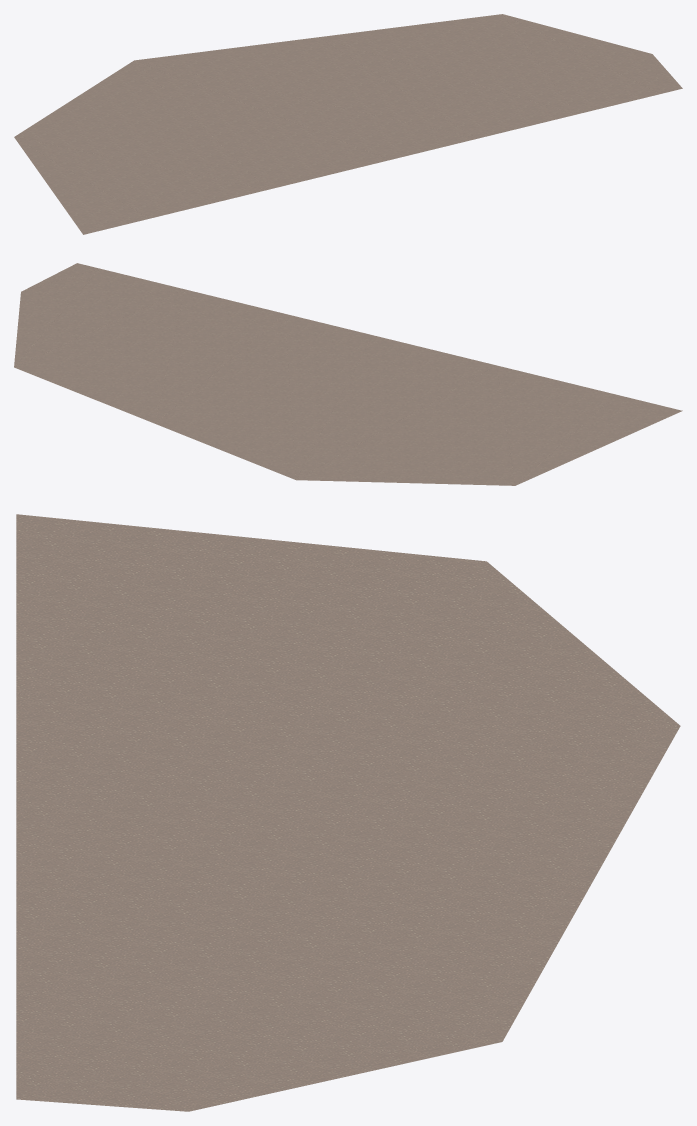
File: kd_stage_1364a3_4_14_bounded.glb
3 renders of one model, top to bottom at view 1: azimuth 30°, elevation 25°; view 2: azimuth 150°, elevation 25°; view 3: azimuth 270°, elevation 25°, orthographic. The views are drawn at different scales.
Visible parts, largest first — view 1: kd_stage_1364a3_4_14_bounded; view 2: kd_stage_1364a3_4_14_bounded; view 3: kd_stage_1364a3_4_14_bounded.
Boxes of the visible parts, x1=… form: kd_stage_1364a3_4_14_bounded: x1=14, y1=14, x2=682, y2=234; kd_stage_1364a3_4_14_bounded: x1=14, y1=263, x2=682, y2=485; kd_stage_1364a3_4_14_bounded: x1=16, y1=514, x2=680, y2=1111.
Bounding box in the file's own units: 67.54 × 3.81e-06 × 31.73.
1 material, 1 textured.
